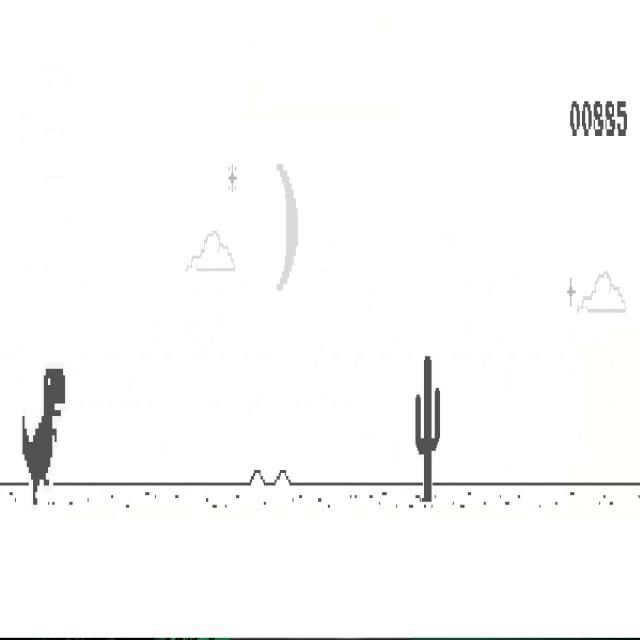cacto: (415, 354, 441, 503)
dino: (21, 366, 66, 507)
